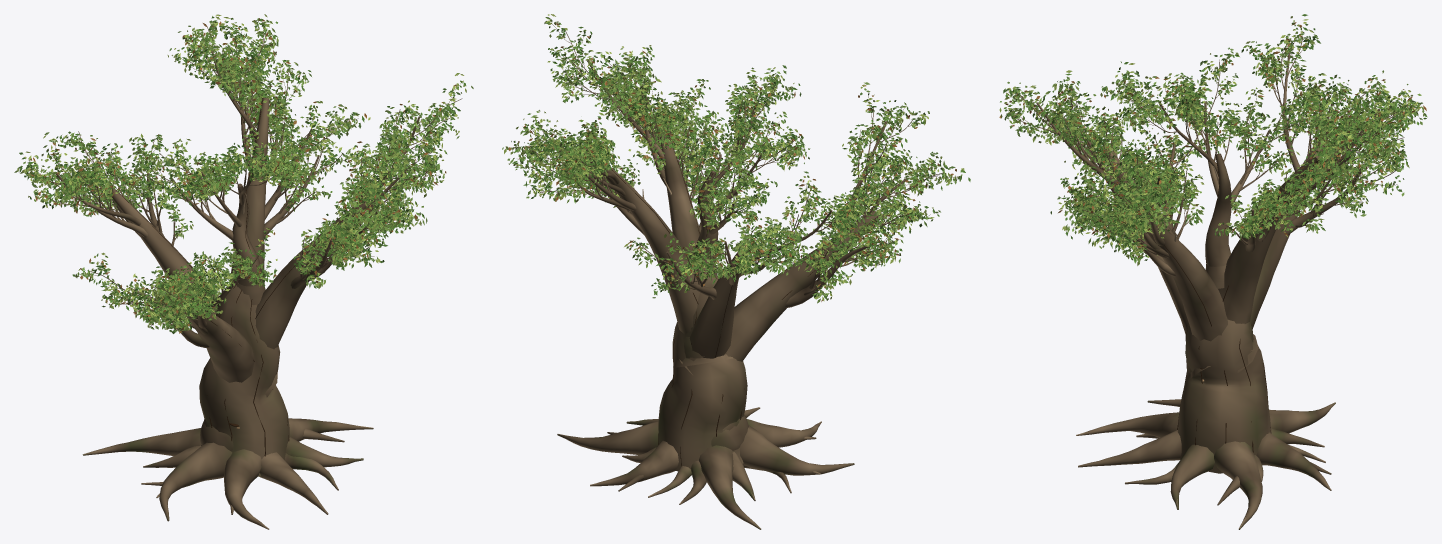
The model's file is ancient_tree_06.glb.
3 renders of one model, left to right at view 1: azimuth 30°, elevation 25°; view 2: azimuth 150°, elevation 25°; view 3: azimuth 270°, elevation 25°, orthographic. The views are drawn at different scales.
Parts seen in each view (by area): view 1: AncientLeaves, AncientTreeWood, FineBranches, DirectedBarkGrooves; view 2: AncientLeaves, AncientTreeWood, FineBranches, DirectedBarkGrooves; view 3: AncientLeaves, AncientTreeWood, FineBranches, DirectedBarkGrooves.
Part boxes in pixels (x1=…): AncientLeaves: x1=14, y1=14, x2=473, y2=333; AncientTreeWood: x1=31, y1=27, x2=462, y2=529; FineBranches: x1=23, y1=21, x2=460, y2=326; DirectedBarkGrooves: x1=115, y1=98, x2=362, y2=456; AncientLeaves: x1=502, y1=14, x2=970, y2=303; AncientTreeWood: x1=525, y1=28, x2=943, y2=529; FineBranches: x1=513, y1=23, x2=959, y2=294; DirectedBarkGrooves: x1=611, y1=134, x2=877, y2=466; AncientLeaves: x1=999, y1=14, x2=1427, y2=265; AncientTreeWood: x1=1008, y1=37, x2=1404, y2=529; FineBranches: x1=1010, y1=28, x2=1416, y2=256; DirectedBarkGrooves: x1=1148, y1=142, x2=1320, y2=452.
Bounding box in the file's own units: 21.03 × 19.82 × 19.46.
